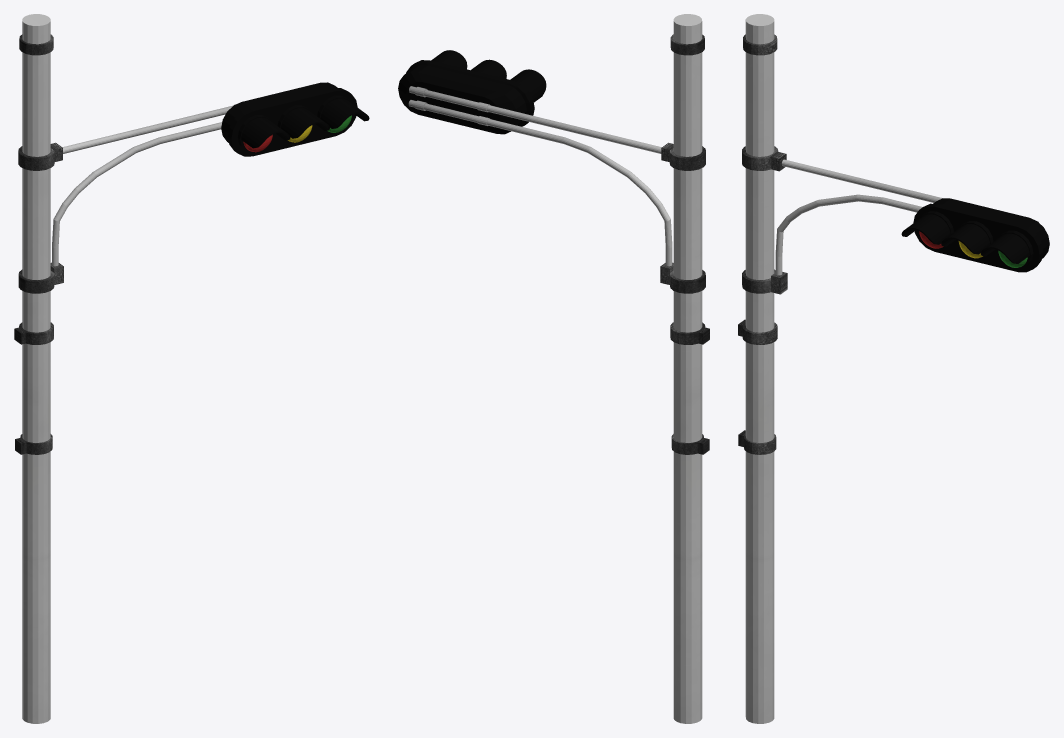
File: TrafficLight.obj
The picture shows the model from 3 angles, left to right: view 1: azimuth 30°, elevation 25°; view 2: azimuth 150°, elevation 25°; view 3: azimuth 330°, elevation 25°; orthographic projection.
Visible parts, largest first — view 1: Obj_Pole, Obj_TrafficLight; view 2: Obj_Pole, Obj_TrafficLight; view 3: Obj_Pole, Obj_TrafficLight.
Part boxes in pixels (bbox=[...]): Obj_Pole: bbox=[14, 14, 235, 723]; Obj_TrafficLight: bbox=[221, 82, 369, 156]; Obj_Pole: bbox=[408, 14, 709, 723]; Obj_TrafficLight: bbox=[398, 50, 546, 134]; Obj_Pole: bbox=[738, 14, 1038, 723]; Obj_TrafficLight: bbox=[901, 198, 1049, 272].
Bounding box in the file's own units: 3.15 × 6.58 × 0.8803.
